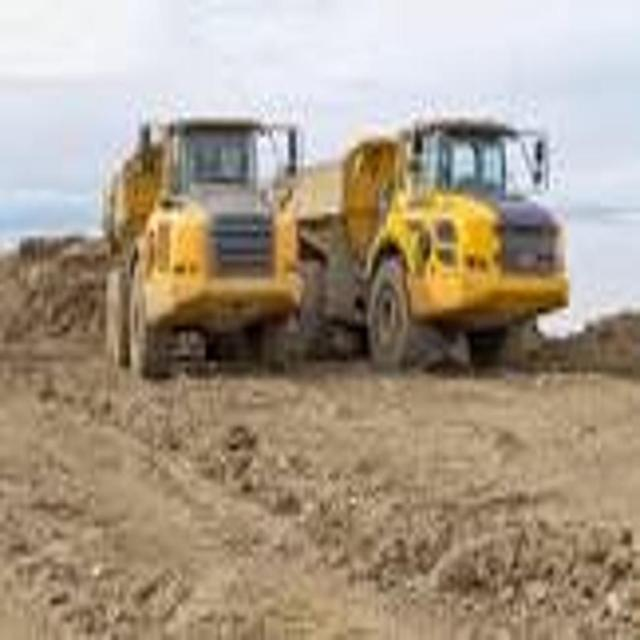dump_truck: (301, 107, 569, 410), (95, 106, 308, 380)
